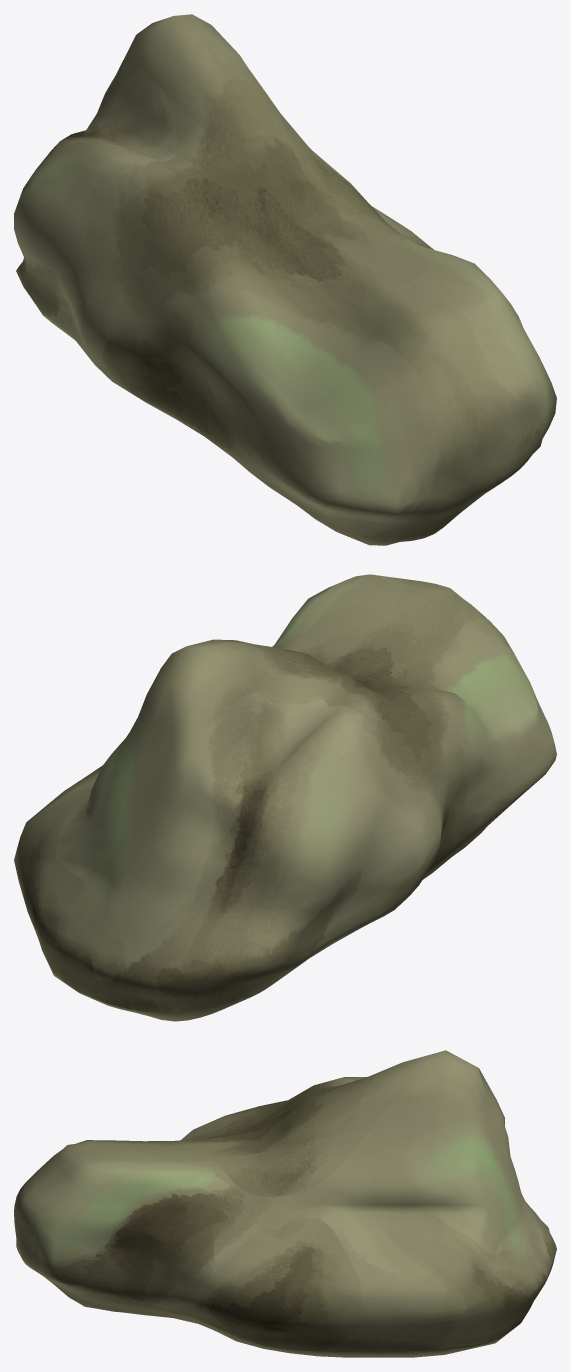
File: rock2.fbx
3 renders of one model, top to bottom at view 1: azimuth 30°, elevation 25°; view 2: azimuth 150°, elevation 25°; view 3: azimuth 270°, elevation 25°, orthographic. The views are drawn at different scales.
Parts seen in each view (by area): view 1: pCube4; view 2: pCube4; view 3: pCube4.
Part boxes in pixels (x1=…): pCube4: x1=14, y1=14, x2=556, y2=545; pCube4: x1=14, y1=574, x2=556, y2=1021; pCube4: x1=14, y1=1050, x2=556, y2=1357.
Bounding box in the file's own units: 50.99 × 47.14 × 91.64.
1 material, 1 textured.
